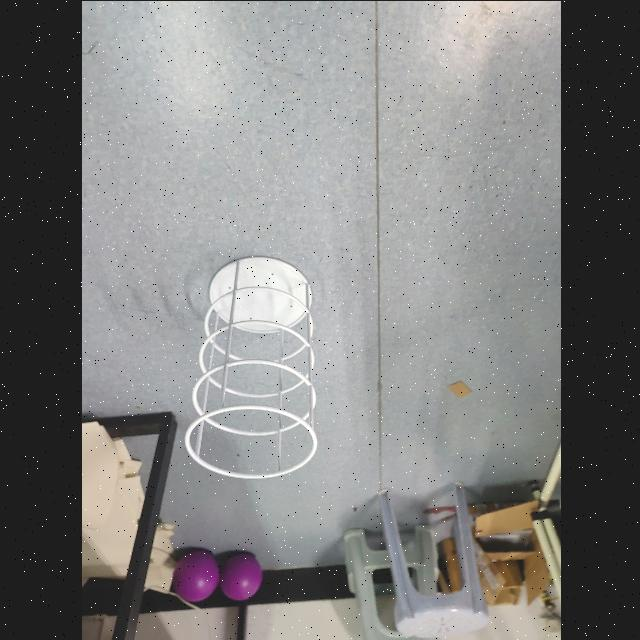S: (179, 251, 319, 485)
